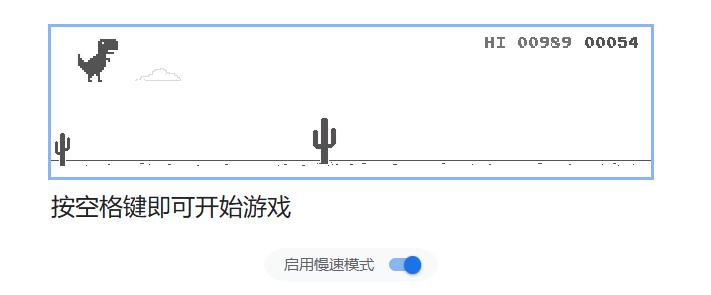cactus: (311, 117, 338, 167), (53, 132, 71, 167)
dino: (75, 37, 119, 83)
